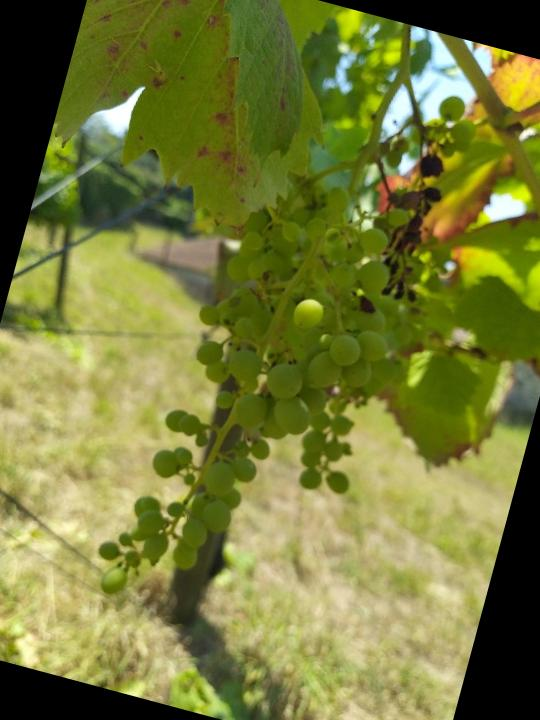grape: (79, 148, 449, 664), (361, 138, 472, 308)
